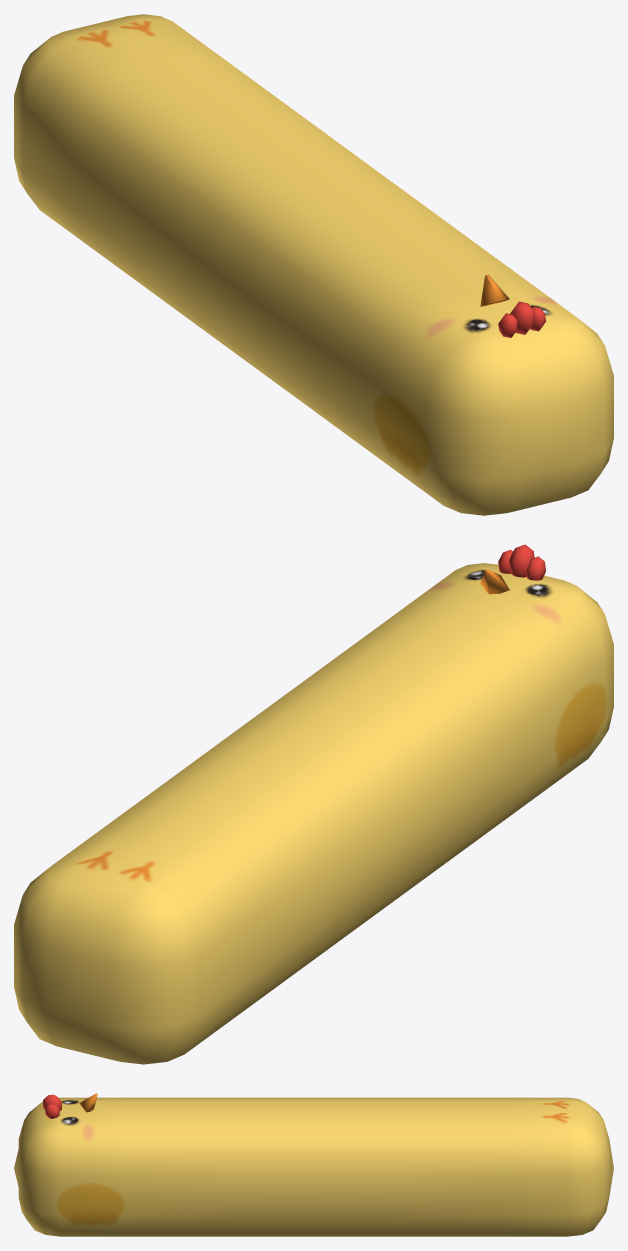
File: Chicken_4x1.fbx
3 views of the same model, one above another, from view 1: azimuth 30°, elevation 25°; view 2: azimuth 150°, elevation 25°; view 3: azimuth 270°, elevation 25° (orthographic). The views are drawn at different scales.
Visible parts, largest first — view 1: Chicken_4x1; view 2: Chicken_4x1; view 3: Chicken_4x1.
Part boxes in pixels (box(x1,y1,x2,y2)): Chicken_4x1: box(14, 14, 613, 515); Chicken_4x1: box(14, 544, 613, 1064); Chicken_4x1: box(14, 1093, 613, 1236).
Size of the model in its own units: 0.9 by 0.8679 by 3.9.
Materials: 1 (1 with a texture image).
